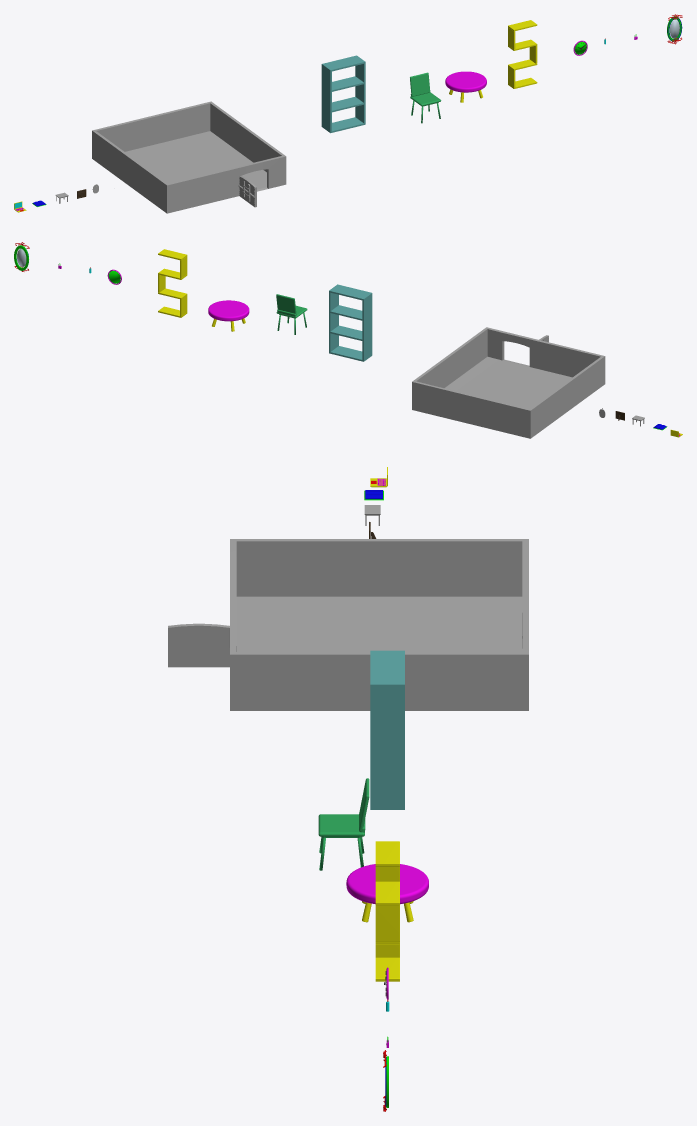
Rendered from modelados.fbx.
3 views of the same model, one above another, from view 1: azimuth 30°, elevation 25°; view 2: azimuth 150°, elevation 25°; view 3: azimuth 270°, elevation 25° (orthographic). The views are drawn at different scales.
Visible parts, largest first — view 1: pCube1, Estante_Final, Estante_Tapa_Superior1, Silla_Final, Banco_Tapa_Redonda; view 2: pCube1, Estante_Final, Estante_Tapa_Superior1, Banco_Tapa_Redonda, Silla_Final; view 3: pCube1, Estante_Final, Estante_Tapa_Superior1, Banco_Tapa_Redonda, Silla_Final.
Part boxes in pixels (x1=…): pCube1: x1=92, y1=101, x2=286, y2=213; Estante_Final: x1=321, y1=55, x2=365, y2=133; Estante_Tapa_Superior1: x1=508, y1=20, x2=537, y2=88; Silla_Final: x1=410, y1=72, x2=441, y2=123; Banco_Tapa_Redonda: x1=445, y1=71, x2=486, y2=92; pCube1: x1=412, y1=327, x2=605, y2=438; Estante_Final: x1=329, y1=284, x2=372, y2=361; Estante_Tapa_Superior1: x1=158, y1=249, x2=187, y2=317; Banco_Tapa_Redonda: x1=208, y1=300, x2=249, y2=321; Silla_Final: x1=276, y1=294, x2=307, y2=334; pCube1: x1=168, y1=539, x2=528, y2=710; Estante_Final: x1=370, y1=650, x2=404, y2=809; Estante_Tapa_Superior1: x1=375, y1=841, x2=399, y2=981; Banco_Tapa_Redonda: x1=346, y1=864, x2=428, y2=904; Silla_Final: x1=318, y1=778, x2=369, y2=870.
Size of the model in its own units: 929 by 91.84 by 219.
Materials: 30 (1 with a texture image).
